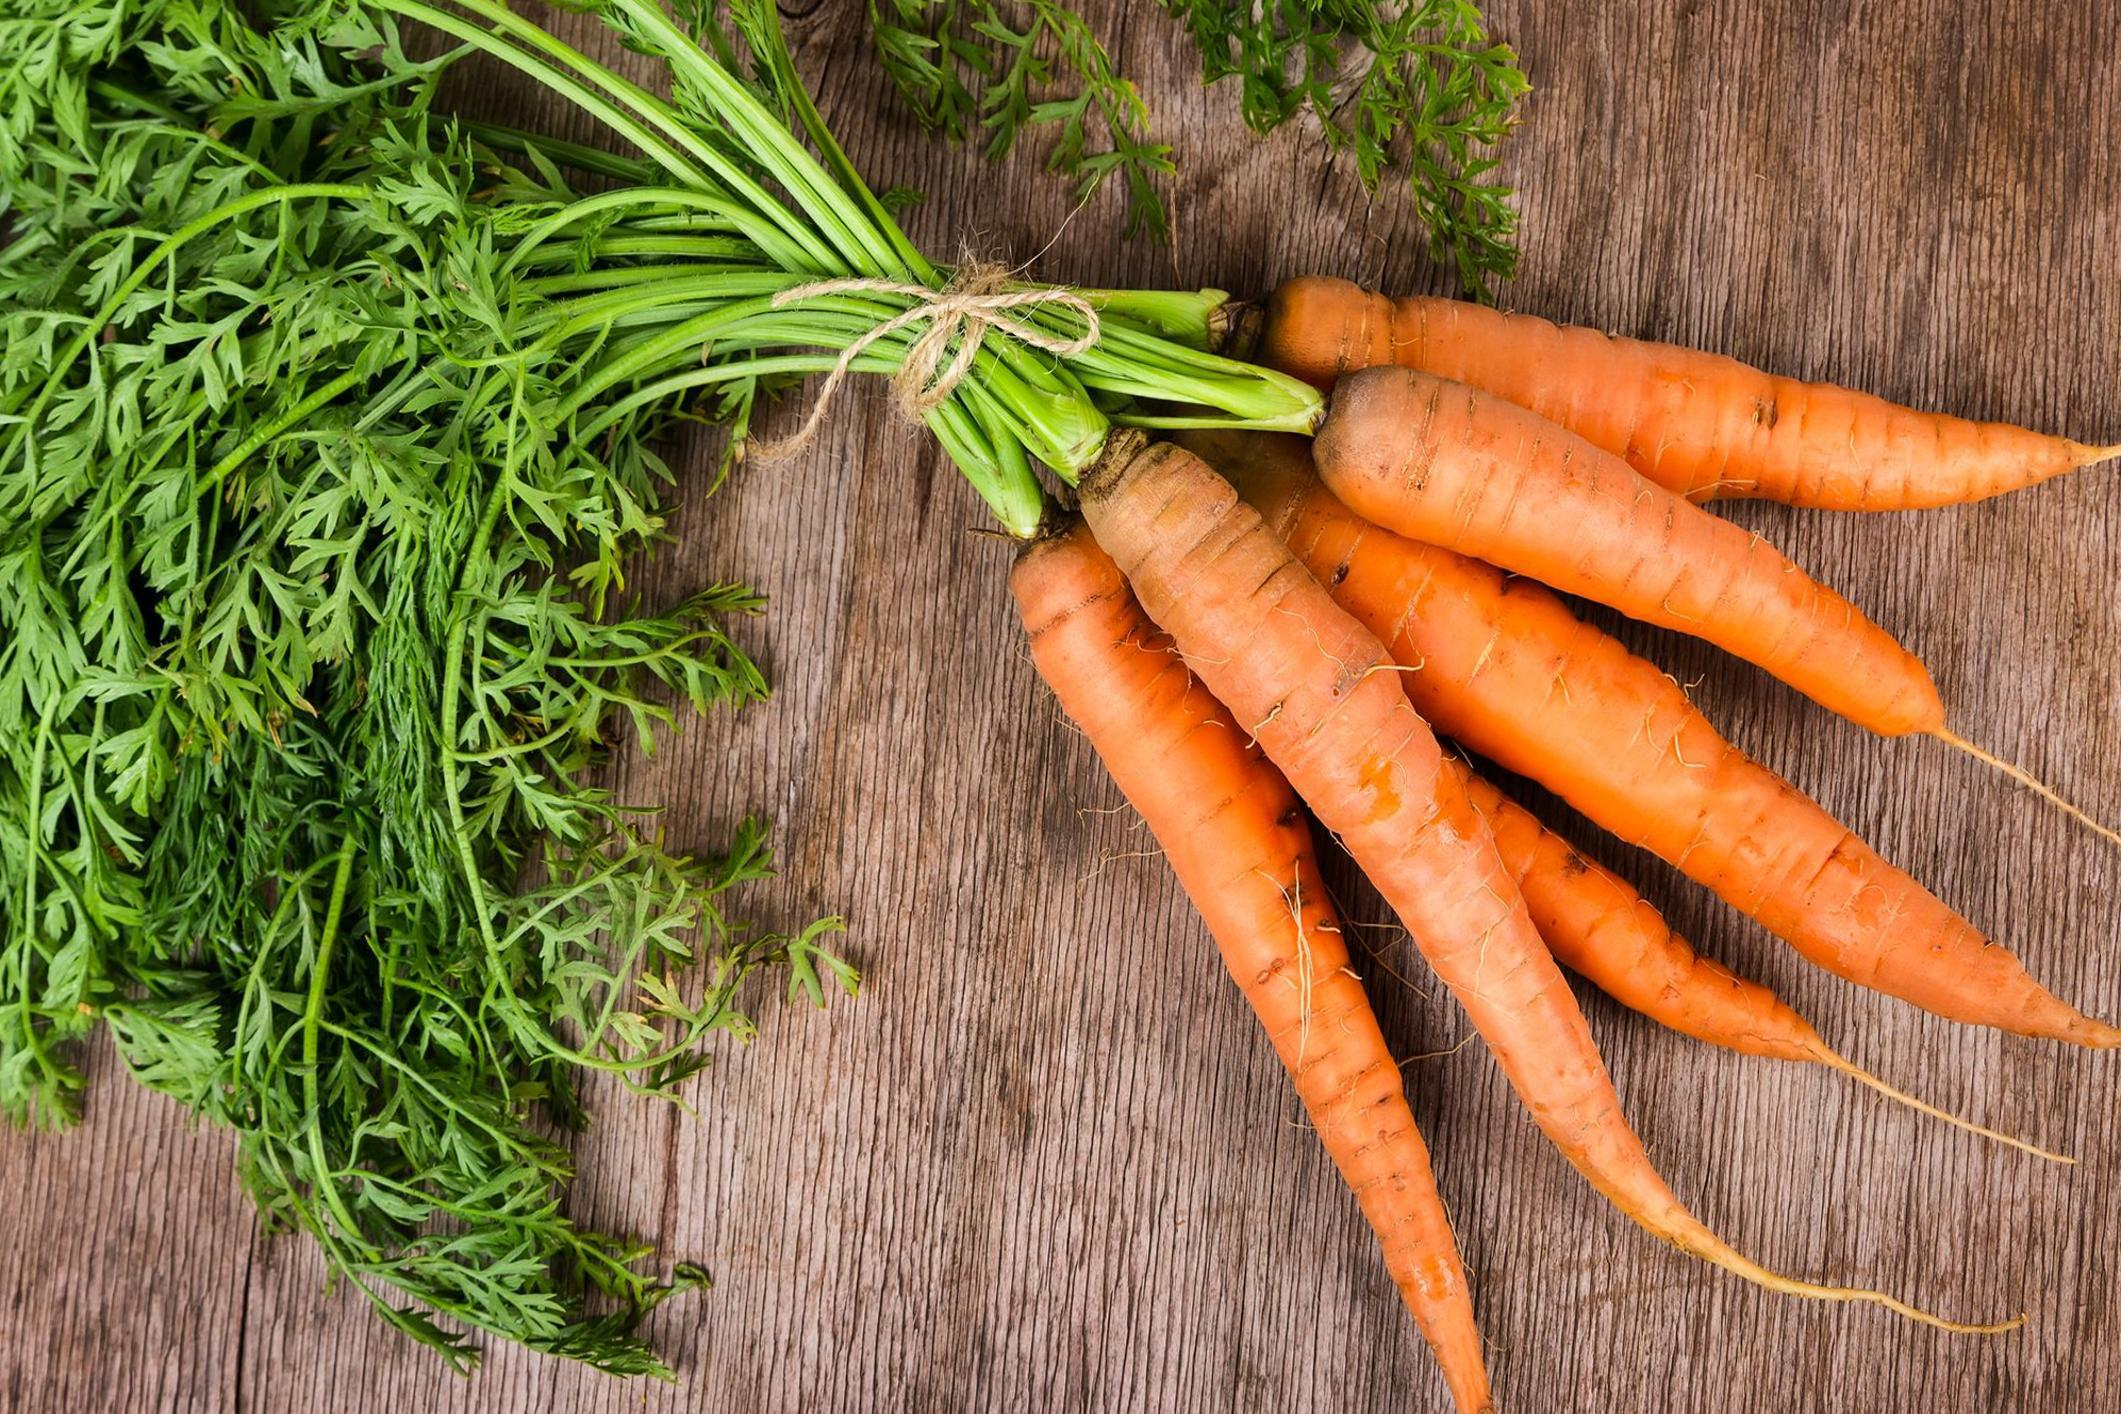carrot: (945, 117, 2121, 1414)
